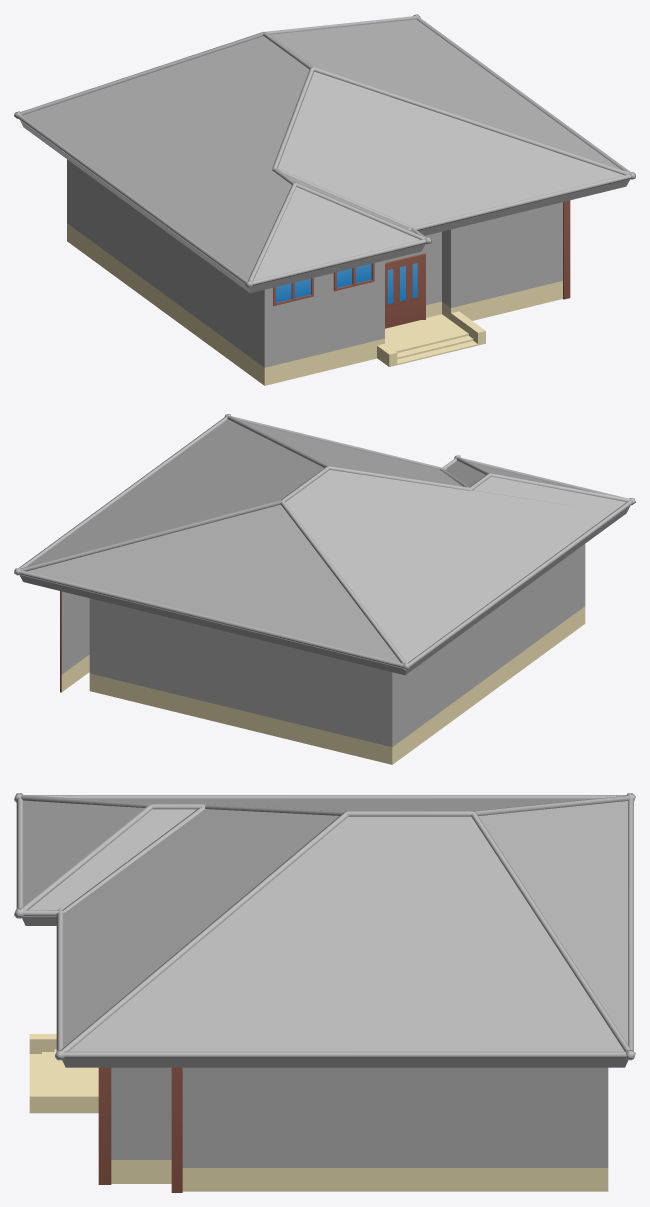
The model's file is house_neighbour.fbx.
3 renders of one model, top to bottom at view 1: azimuth 30°, elevation 25°; view 2: azimuth 150°, elevation 25°; view 3: azimuth 270°, elevation 25°, orthographic. The views are drawn at different scales.
Parts seen in each view (by area): view 1: house_neighbour; view 2: house_neighbour; view 3: house_neighbour.
Boxes of the visible parts, x1,y1,x2,y2 form: house_neighbour: [14, 14, 635, 385]; house_neighbour: [14, 414, 635, 764]; house_neighbour: [14, 793, 635, 1192].
Bounding box in the file's own units: 2528 × 1205 × 2539.
Materials: 3 (1 with a texture image).
